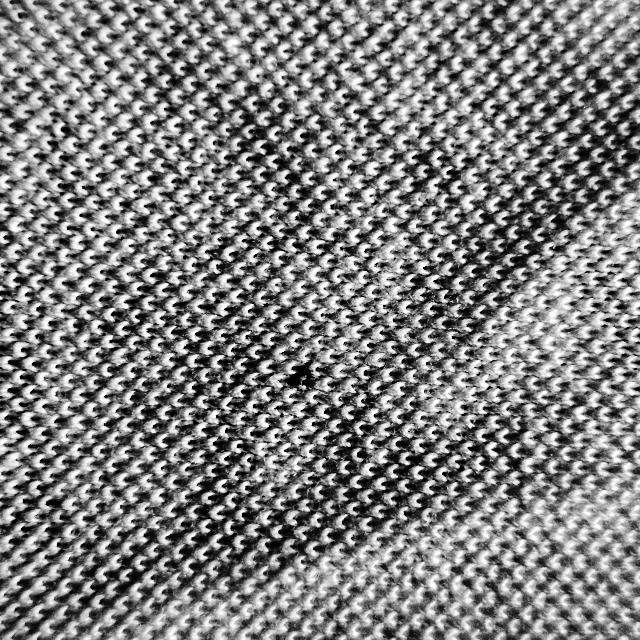Color_defect: (284, 363, 324, 396)
